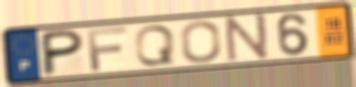6: (275, 12, 311, 57)
F: (85, 25, 130, 73)
N: (224, 12, 270, 64)
O: (178, 19, 223, 65)
P: (39, 28, 87, 79)
Q: (133, 24, 177, 67)
